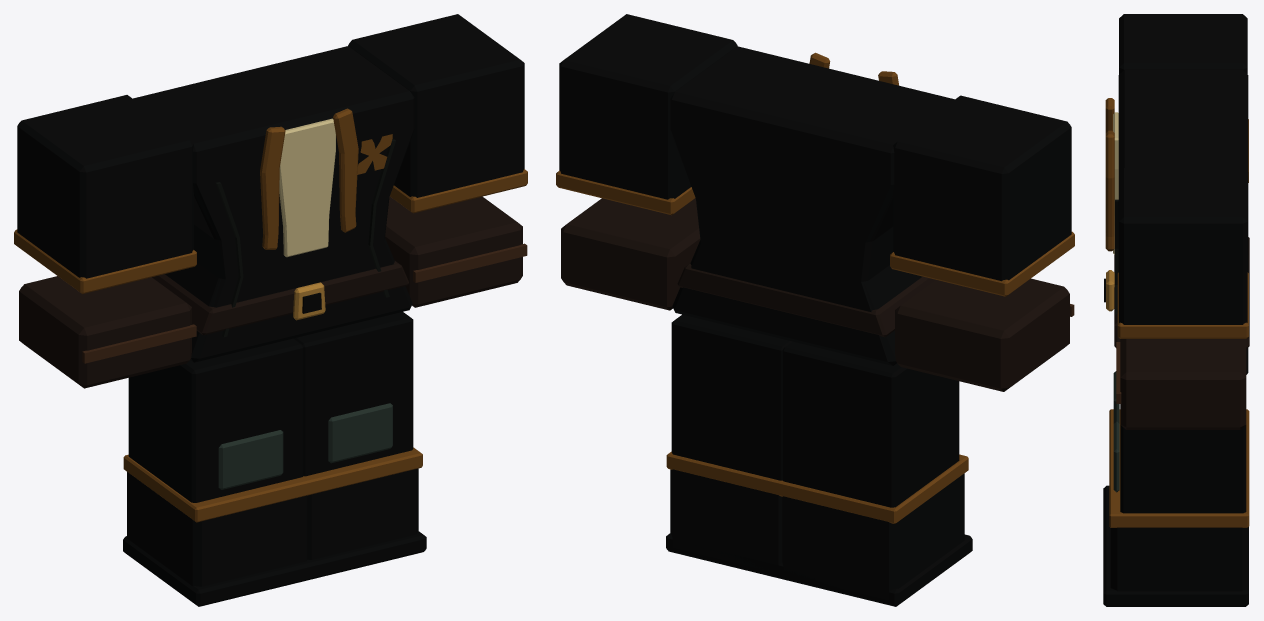
The model's file is outfit-ink-knight-female-v1.fbx.
The picture shows the model from 3 angles, left to right: view 1: azimuth 30°, elevation 25°; view 2: azimuth 150°, elevation 25°; view 3: azimuth 270°, elevation 25°; orthographic projection. The views are drawn at different scales.
Parts seen in each view (by area): view 1: Torso.002, Left Arm.002, Left Leg.002, Right Arm.002, Right Leg.002; view 2: Torso.002, Left Arm.002, Left Leg.002, Right Arm.002, Right Leg.002; view 3: Right Arm.002, Right Leg.002, Torso.002, Left Arm.002, Left Leg.002.
Part boxes in pixels (<box>): Torso.002: <box>133,46,414,362</box>; Left Arm.002: <box>14,95,196,388</box>; Left Leg.002: <box>123,338,315,606</box>; Right Arm.002: <box>348,14,527,307</box>; Right Leg.002: <box>293,312,426,579</box>; Torso.002: <box>670,46,954,365</box>; Left Arm.002: <box>890,95,1074,391</box>; Left Leg.002: <box>777,341,972,606</box>; Right Arm.002: <box>556,14,737,310</box>; Right Leg.002: <box>666,314,792,579</box>; Right Arm.002: <box>1116,168,1248,429</box>; Right Leg.002: <box>1103,421,1249,606</box>; Torso.002: <box>1104,70,1249,374</box>; Left Arm.002: <box>1119,14,1248,182</box>; Left Leg.002: <box>1103,371,1249,538</box>.
Bounding box in the file's own units: 409 × 401 × 121.
1 material, 1 textured.
